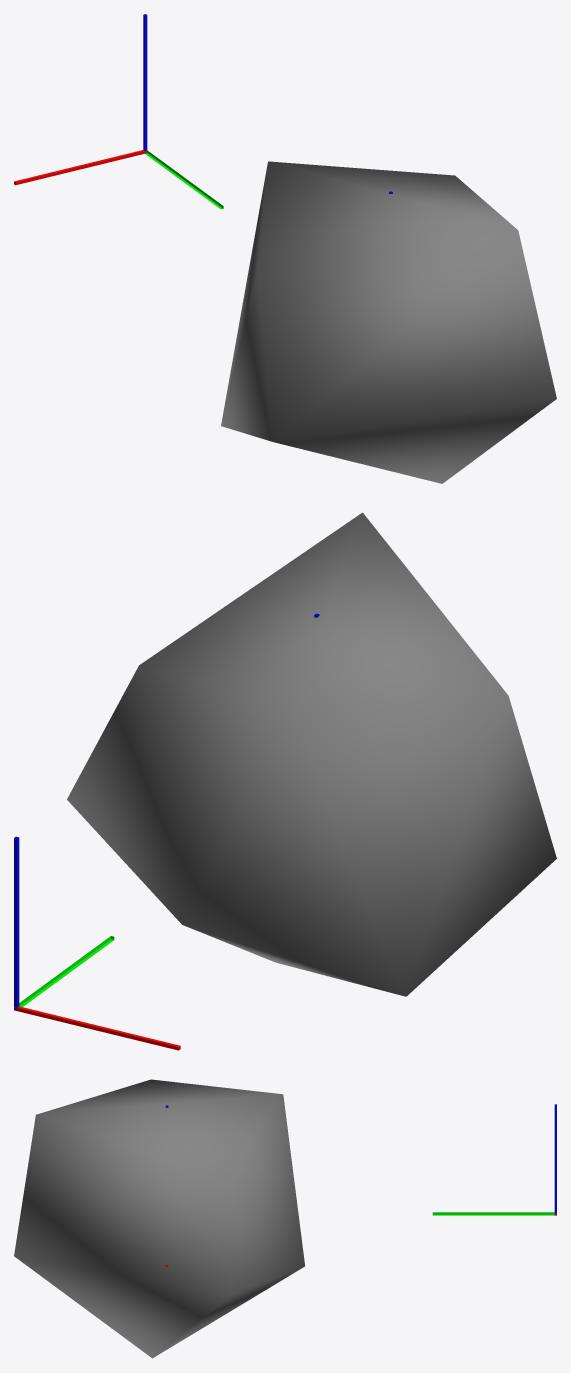
Rendered from catapult-c.glb.
3 views of the same model, one above another, from view 1: azimuth 30°, elevation 25°; view 2: azimuth 150°, elevation 25°; view 3: azimuth 270°, elevation 25° (orthographic). The views are drawn at different scales.
Visible parts, largest first — view 1: cat-cModel, Dummy_fire; view 2: cat-cModel, Dummy_fire; view 3: cat-cModel, Dummy_fire.
Boxes of the visible parts, x1,y1,x2,y2 form: cat-cModel: (221, 161, 556, 483); Dummy_fire: (14, 14, 223, 209); cat-cModel: (67, 512, 556, 996); Dummy_fire: (14, 836, 180, 1050); cat-cModel: (14, 1079, 304, 1358); Dummy_fire: (432, 1104, 556, 1215).
Size of the model in its own units: 0.5977 by 0.5547 by 1.11.
Materials: 2 (1 with a texture image).
